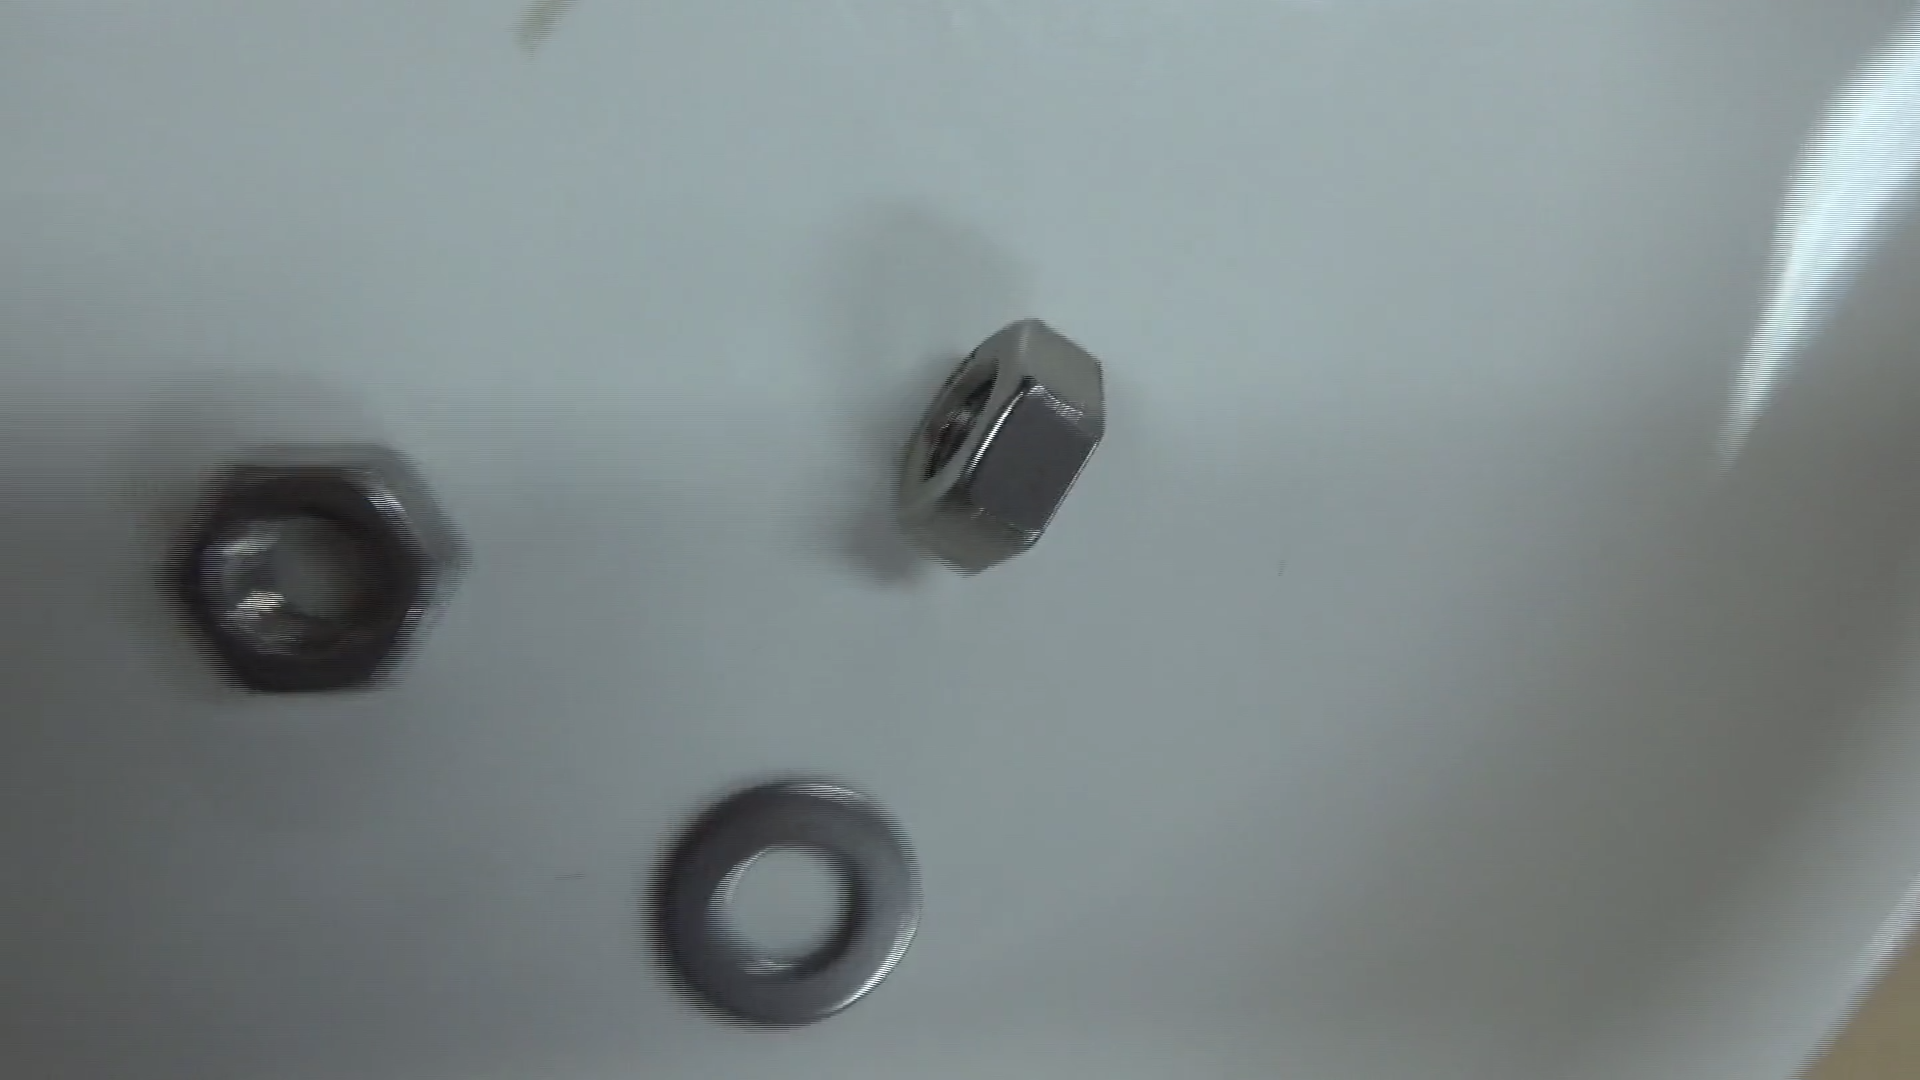nut: (165, 435, 473, 709), (887, 311, 1113, 582)
washer: (640, 750, 942, 1038)
